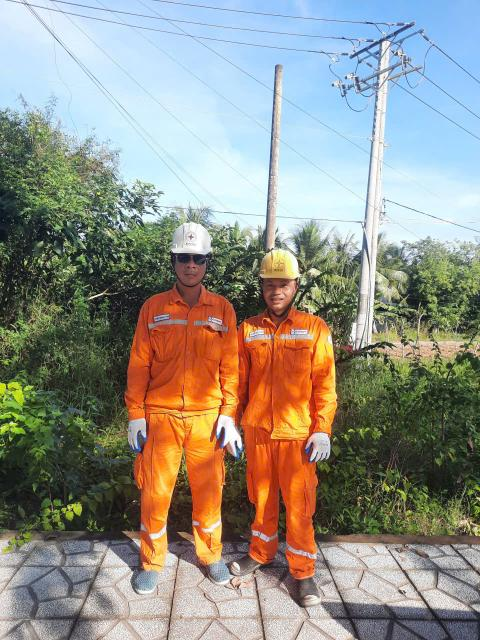gloves: (121, 416, 154, 451), (303, 430, 333, 464), (220, 419, 246, 458), (213, 414, 231, 450)
helmet: (168, 217, 217, 258), (259, 248, 304, 282)
shoes: (281, 567, 327, 609), (128, 552, 164, 596), (220, 546, 269, 577), (187, 556, 235, 584)
